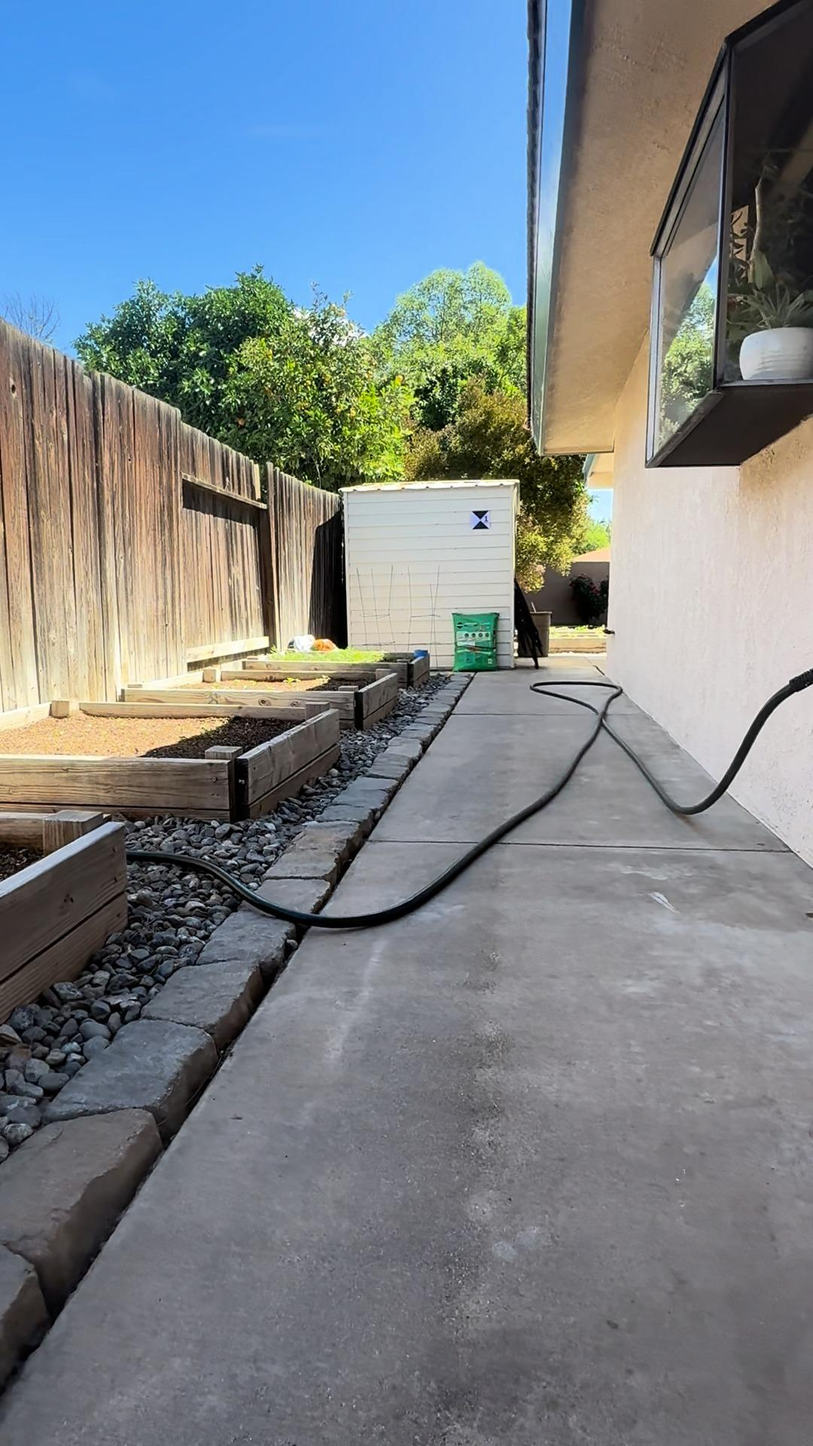target1: (469, 508, 491, 532)
